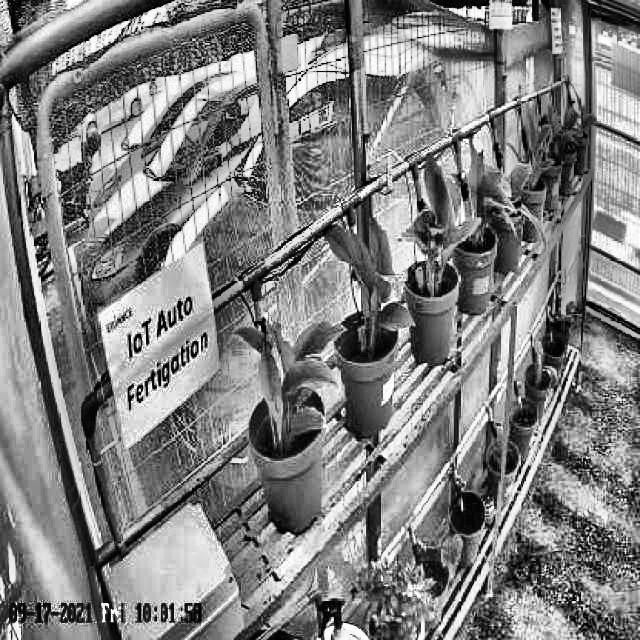plants: (230, 315, 344, 434), (322, 220, 415, 332), (403, 147, 480, 273), (465, 135, 518, 248), (526, 108, 554, 186)
